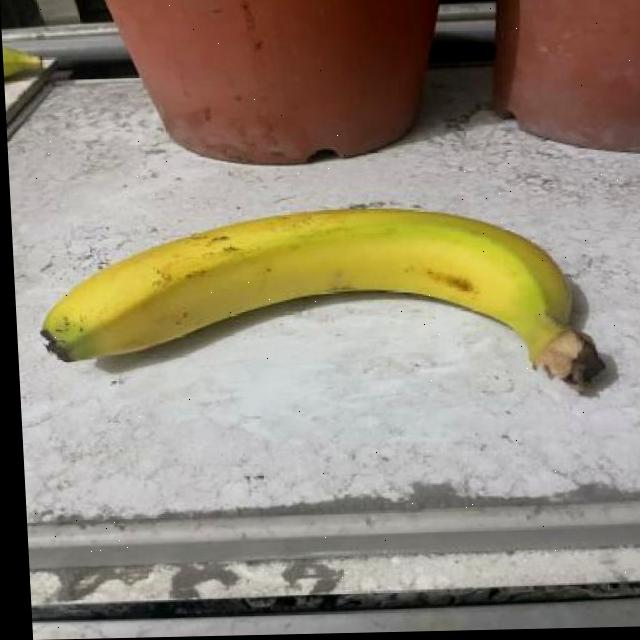banana: (31, 197, 612, 401)
